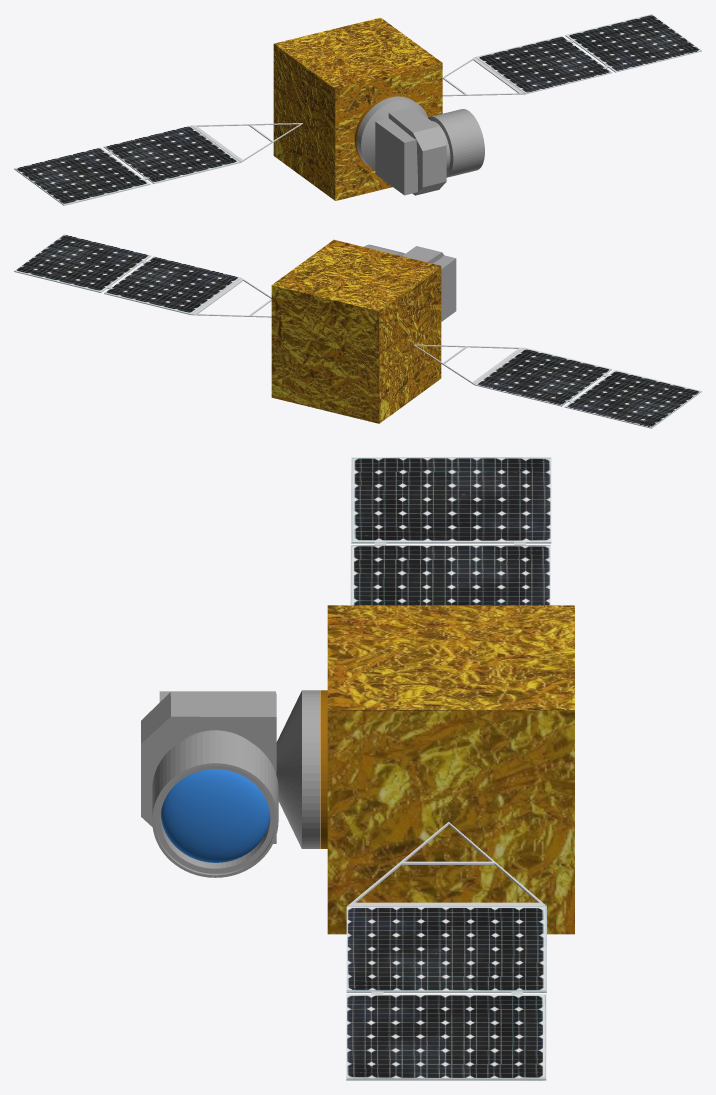
Rendered from SAT.gltf.
3 renders of one model, top to bottom at view 1: azimuth 30°, elevation 25°; view 2: azimuth 150°, elevation 25°; view 3: azimuth 270°, elevation 25°, orthographic. The views are drawn at different scales.
Parts seen in each view (by area): view 1: Sat, SolarPan, SolarPanR, RotaeObj; view 2: Sat, SolarPan, SolarPanR, RotaeObj; view 3: Sat, SolarPanR, SolarPan, RotaeObj.
Boxes of the visible parts, x1,y1,x2,y2 form: Sat: [273, 17, 442, 200]; SolarPan: [14, 123, 302, 205]; SolarPanR: [442, 14, 701, 96]; RotaeObj: [356, 96, 484, 195]; Sat: [271, 239, 441, 423]; SolarPan: [413, 344, 701, 428]; SolarPanR: [14, 234, 271, 317]; RotaeObj: [364, 244, 456, 321]; Sat: [320, 605, 574, 934]; SolarPanR: [346, 822, 546, 1080]; SolarPan: [350, 457, 551, 605]; RotaeObj: [141, 690, 319, 877].
Size of the model in its own units: 14.69 by 2.47 by 4.34.
Materials: 12 (4 with a texture image).
